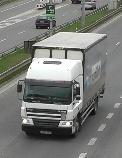car: (35, 14, 57, 29), (80, 1, 96, 10)
truck: (15, 31, 107, 138)
